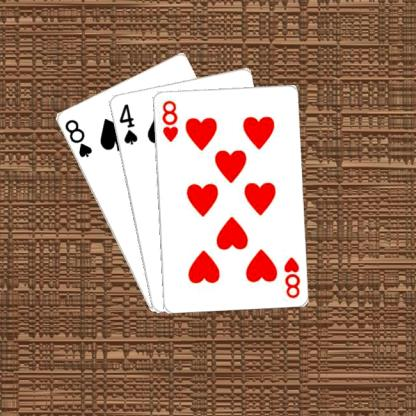4S: (116, 100, 139, 146)
8H: (159, 98, 179, 144), (281, 254, 301, 299)
8S: (62, 116, 94, 158)
